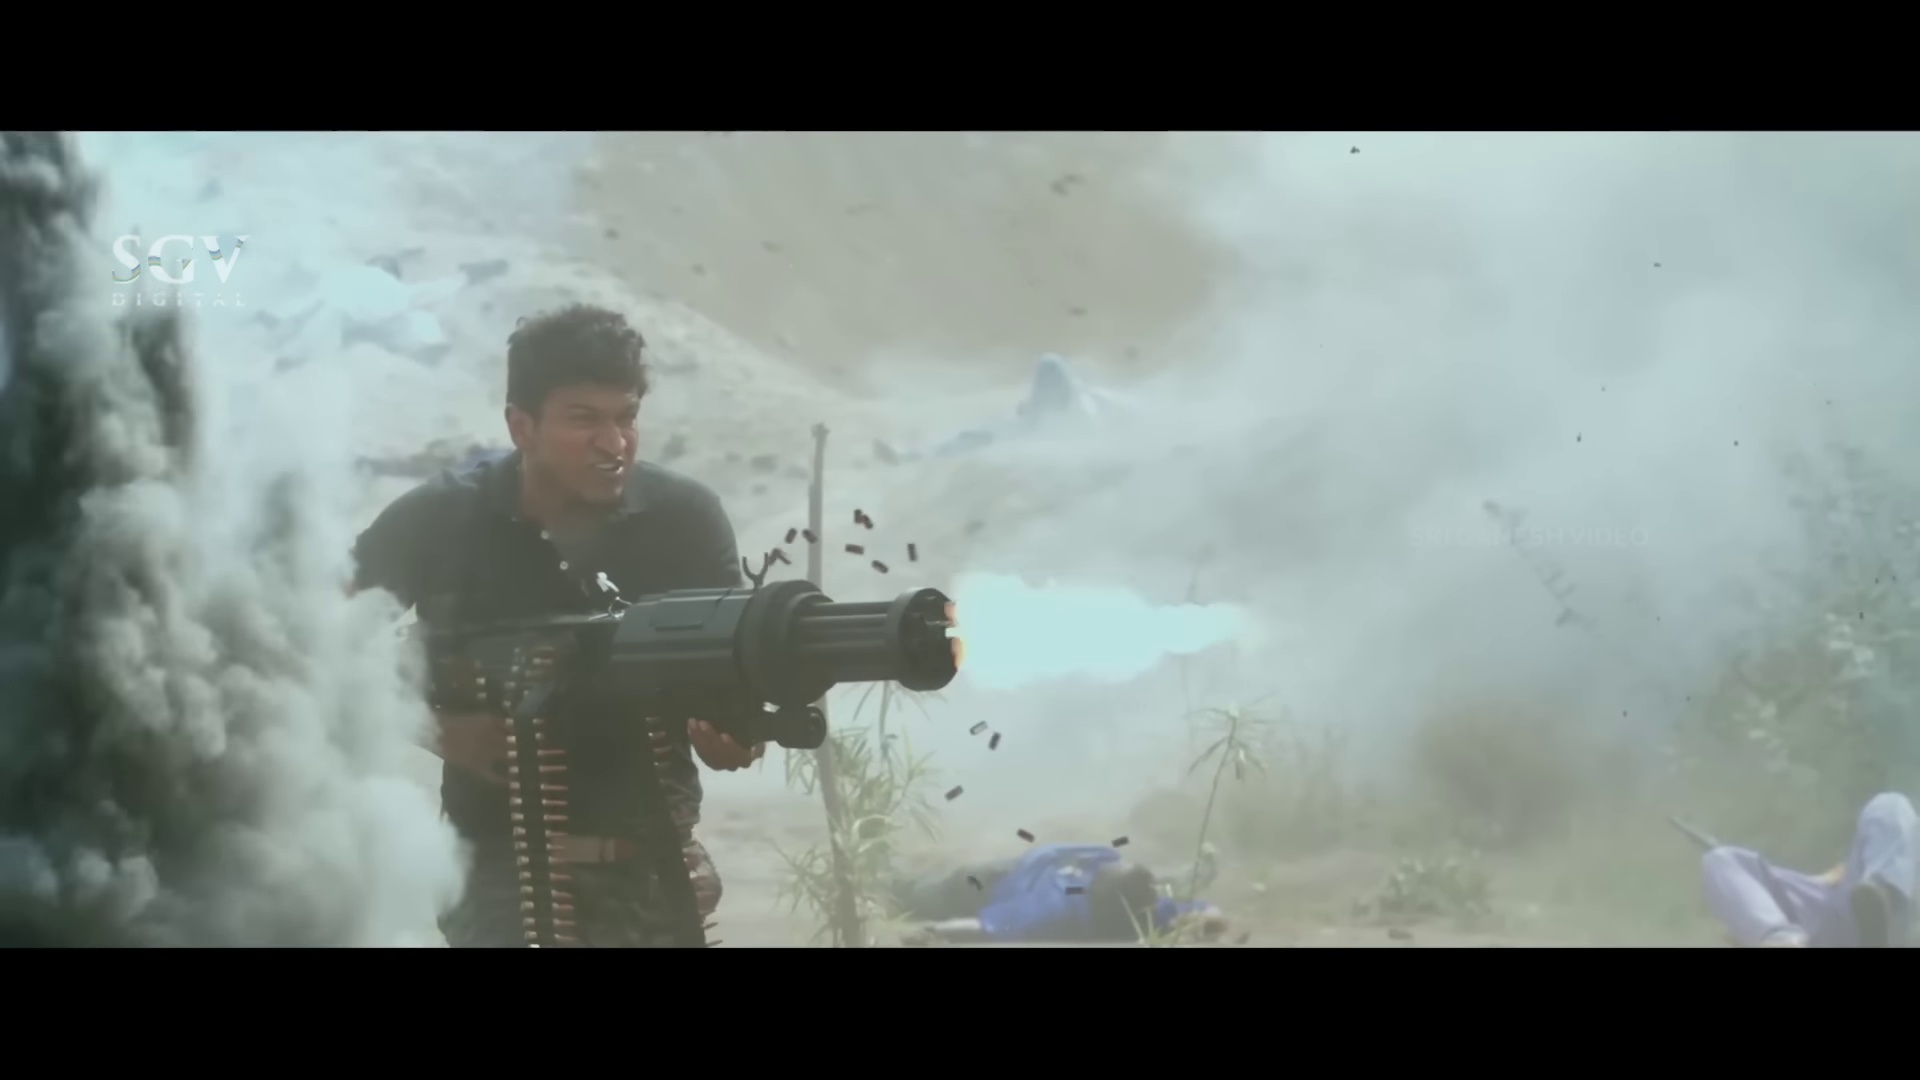gun: (381, 542, 971, 951)
p_w_gun: (334, 297, 971, 957)
